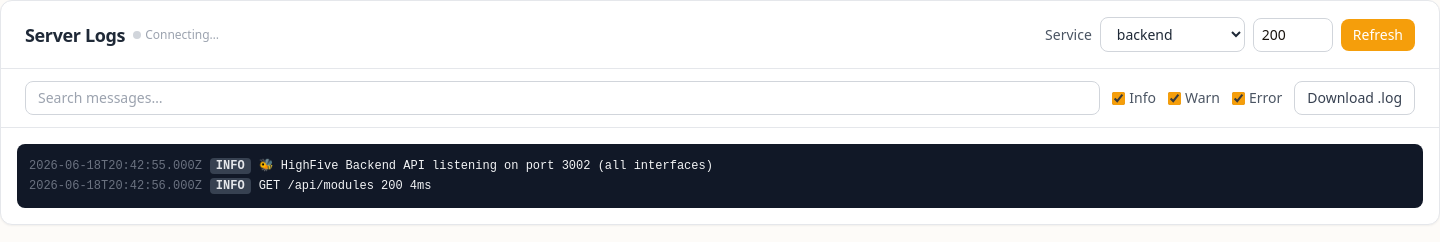
Scenario: ServerLogsPanel (#171/#178) › shows a no-match message and disables download when the filter matches nothing
Expected: the text "GET /api/modules 200 4ms" is shown, [259,178,431,194]
Type "zzz-no-such-line" into the search field with test id "logs-search" at coordinates (563, 98), box [25,81,1100,115]
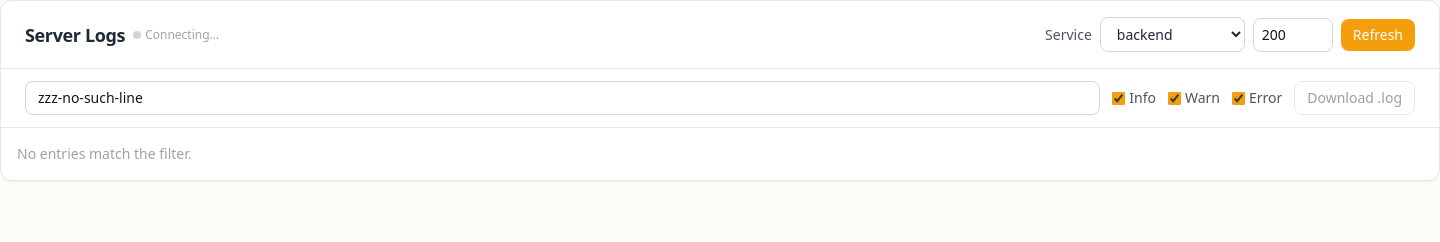
Expected: the text "No entries match the filter." is shown, [17,144,192,163]
Expected: the element with test id "server-logs-output" is gone
Expected: the button with test id "logs-download" is disabled, [1294,81,1415,115]
